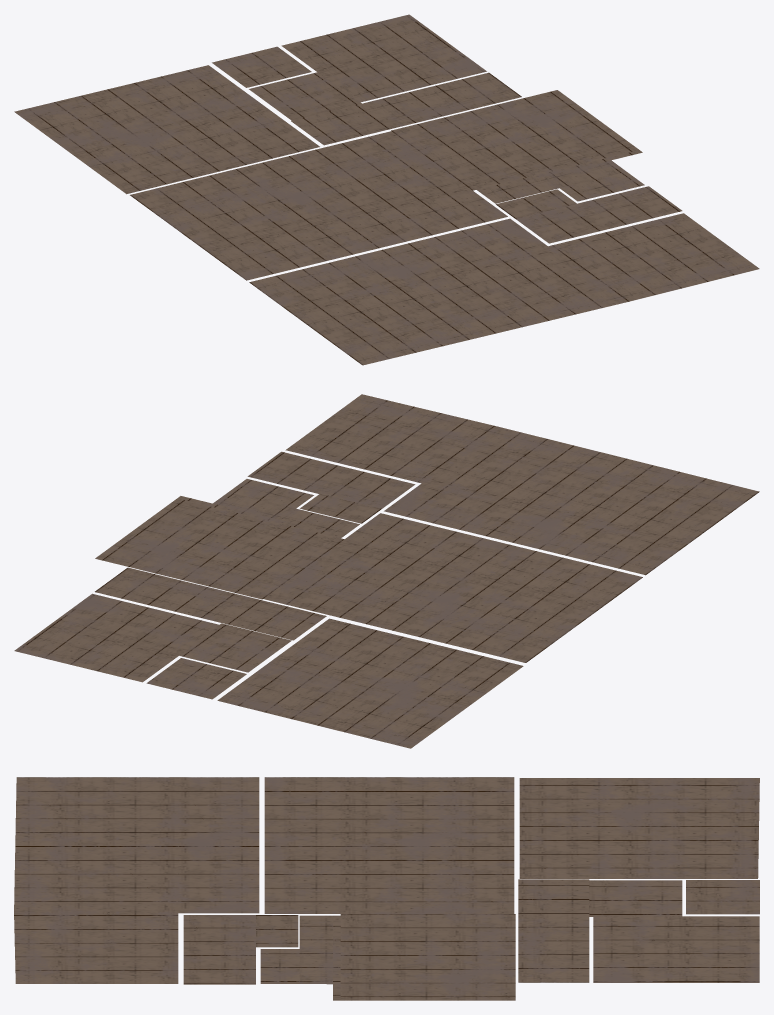
Rendered from 家2_天井_collider.fbx.
3 renders of one model, top to bottom at view 1: azimuth 30°, elevation 25°; view 2: azimuth 150°, elevation 25°; view 3: azimuth 270°, elevation 25°, orthographic. The views are drawn at different scales.
Parts seen in each view (by area): view 1: 6畳広さPlane.134; view 2: 6畳広さPlane.134; view 3: 6畳広さPlane.134.
Boxes of the visible parts, x1,y1,x2,y2 form: 6畳広さPlane.134: (14, 14, 759, 365); 6畳広さPlane.134: (14, 394, 759, 748); 6畳広さPlane.134: (14, 777, 759, 1000).
Bounding box in the file's own units: 598 × 1.68 × 844.
